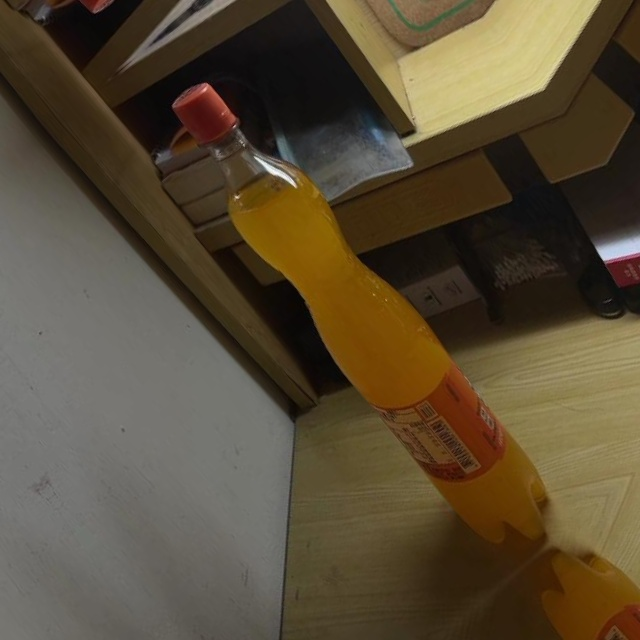Fanta: (135, 68, 579, 571)
